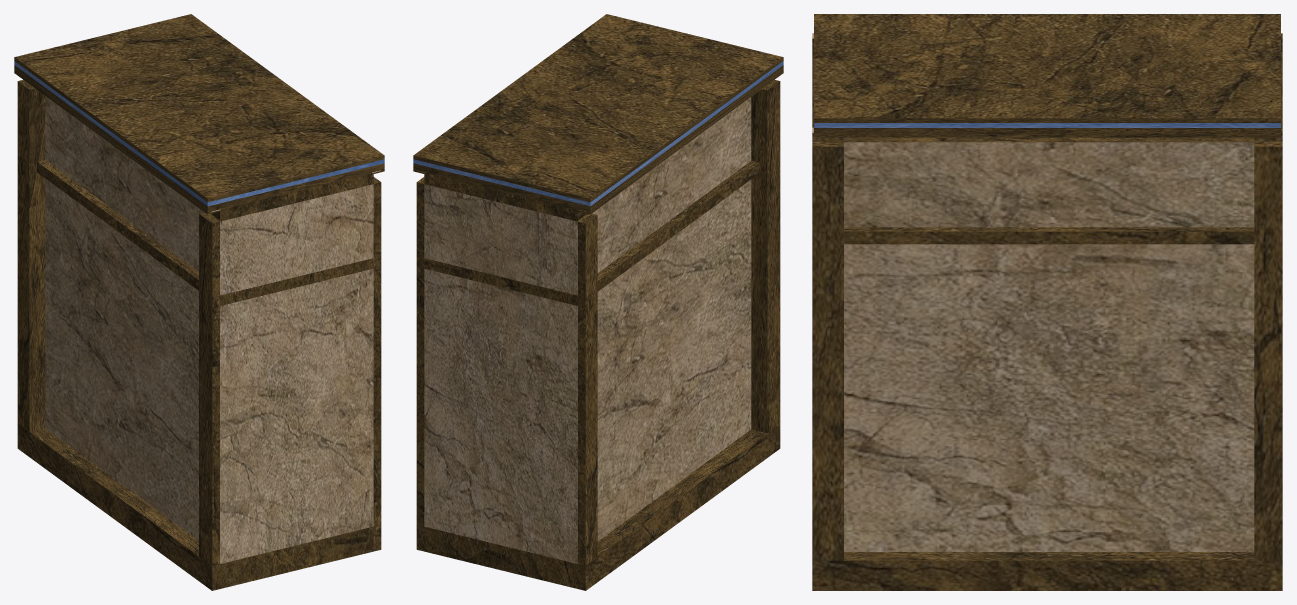
Rendered from Yamato_wall.fbx.
The picture shows the model from 3 angles, left to right: view 1: azimuth 30°, elevation 25°; view 2: azimuth 150°, elevation 25°; view 3: azimuth 270°, elevation 25°; orthographic projection. The views are drawn at different scales.
Parts seen in each view (by area): view 1: Cube, Cube.001; view 2: Cube, Cube.001; view 3: Cube, Cube.001.
Boxes of the visible parts, bbox=[...] form: Cube: bbox=[17, 80, 381, 590]; Cube.001: bbox=[14, 14, 384, 214]; Cube: bbox=[416, 80, 780, 590]; Cube.001: bbox=[413, 14, 783, 214]; Cube: bbox=[812, 33, 1282, 590]; Cube.001: bbox=[814, 14, 1280, 137].
Size of the model in its own units: 230 by 488 by 438.
2 materials, 2 textured.
